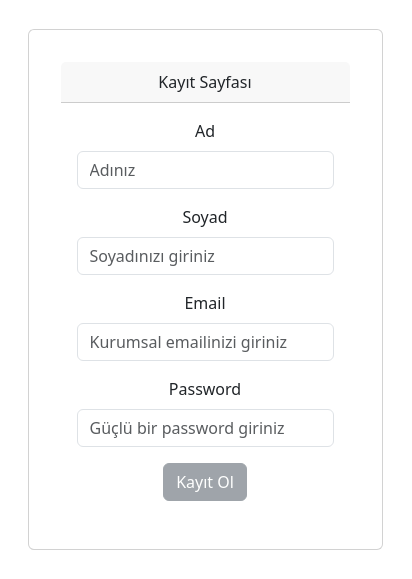
Test: Forms Page › Error Messages › email input throws error for emre@wit.
Type "emre@wit." into the field with test id "email-input" at x=206, y=342, box [77,323,334,361]
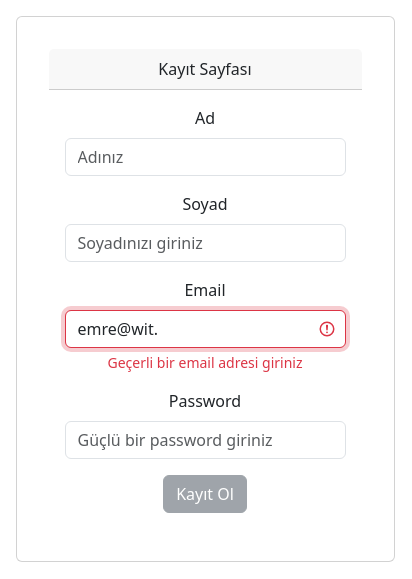
Expected: the text "Geçerli bir email adresi giriniz" is shown, [108,353,302,372]
